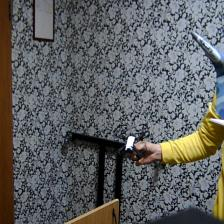drone: (105, 122, 154, 167)
